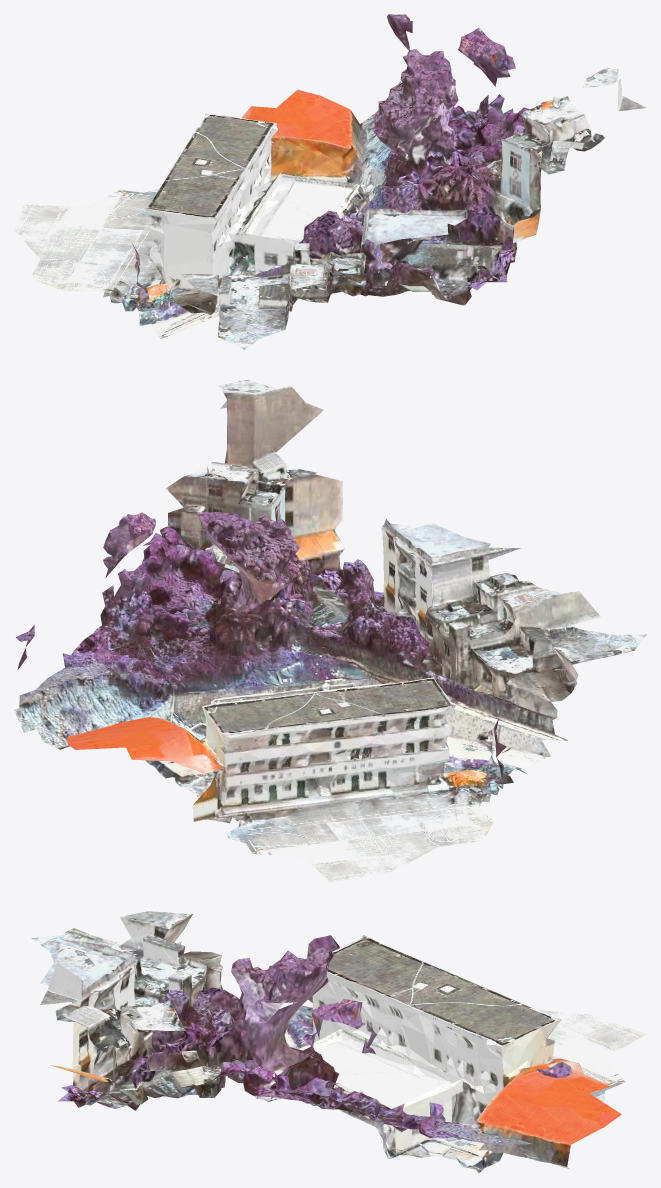
File: Tile_+012_+019_L19_000020.glb
3 renders of one model, top to bottom at view 1: azimuth 30°, elevation 25°; view 2: azimuth 150°, elevation 25°; view 3: azimuth 270°, elevation 25°, orthographic. The views are drawn at different scales.
Visible parts, largest first — view 1: rtc; view 2: rtc; view 3: rtc.
Part boxes in pixels (x1=…): rtc: x1=14, y1=14, x2=646, y2=349; rtc: x1=14, y1=378, x2=646, y2=882; rtc: x1=31, y1=911, x2=646, y2=1173.
Bounding box in the file's own units: 58.89 × 29.64 × 64.45.
Materials: 1 (1 with a texture image).
